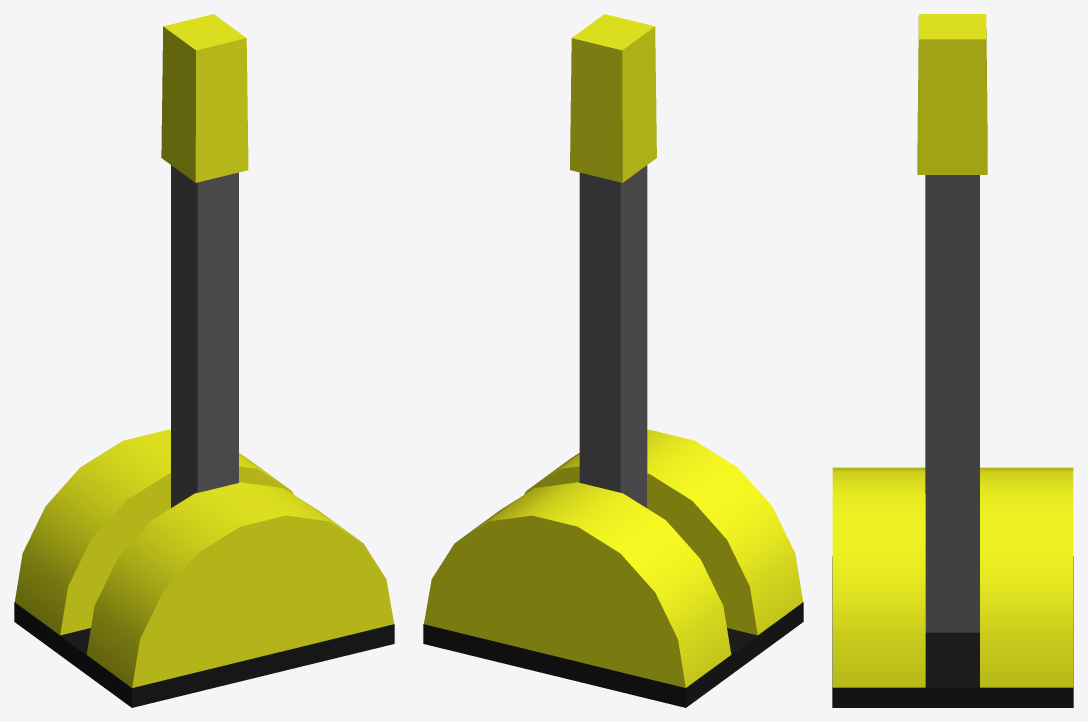
Rendered from Lever.FBX.
3 renders of one model, left to right at view 1: azimuth 30°, elevation 25°; view 2: azimuth 150°, elevation 25°; view 3: azimuth 270°, elevation 25°, orthographic. The views are drawn at different scales.
Parts seen in each view (by area): view 1: Cylinder001, Box002, Box001; view 2: Cylinder001, Box002, Box001; view 3: Cylinder001, Box002, Box001.
Boxes of the visible parts, <box> form: Cylinder001: <box>15,429,394,687</box>; Box002: <box>161,14,248,507</box>; Box001: <box>14,602,394,707</box>; Cylinder001: <box>424,429,802,687</box>; Box002: <box>570,14,656,507</box>; Box001: <box>423,602,803,707</box>; Cylinder001: <box>832,467,1073,687</box>; Box002: <box>917,14,987,632</box>; Box001: <box>832,556,1073,707</box>.
Size of the model in its own units: 18.99 by 41.49 by 14.75.
